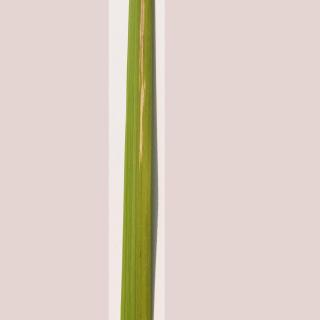Hawar-Daun: (128, 19, 152, 170)
